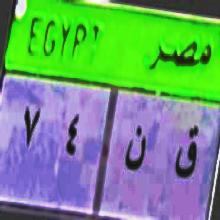4: (62, 107, 84, 165)
7: (19, 100, 43, 153)
noon: (123, 122, 150, 179)
qaaf: (172, 122, 200, 187)
